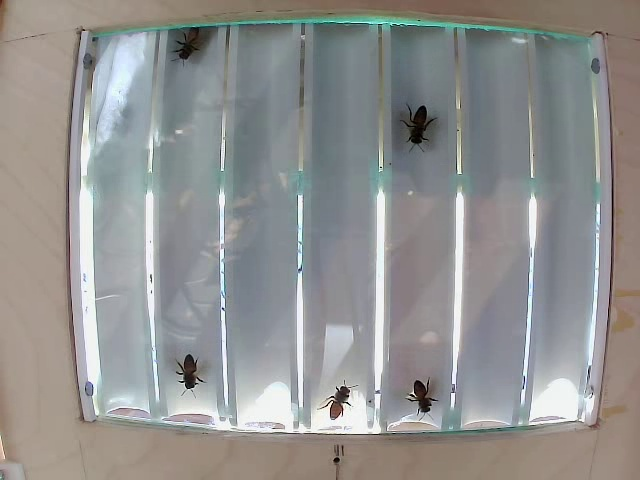bee: (404, 372, 452, 421), (396, 94, 430, 153), (321, 384, 357, 420), (169, 354, 207, 385)
